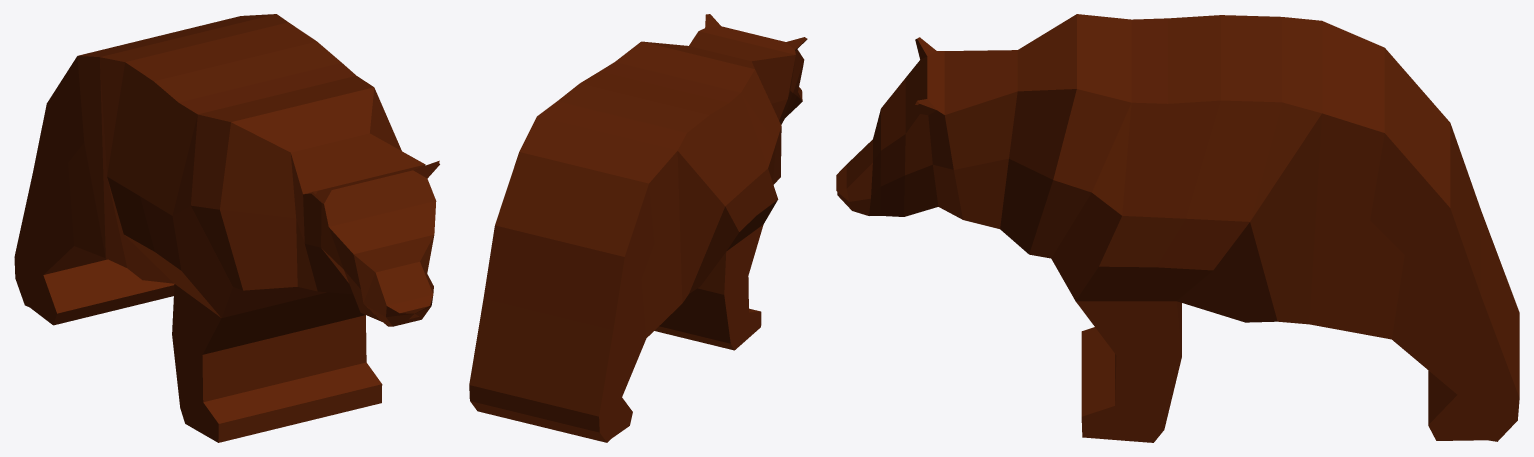
Rendered from bear.glb.
3 views of the same model, side by side, from view 1: azimuth 30°, elevation 25°; view 2: azimuth 150°, elevation 25°; view 3: azimuth 270°, elevation 25° (orthographic). The views are drawn at different scales.
Parts seen in each view (by area): view 1: Plane.001; view 2: Plane.001; view 3: Plane.001.
Boxes of the visible parts, bbox=[...] form: Plane.001: bbox=[14, 14, 439, 442]; Plane.001: bbox=[469, 14, 807, 442]; Plane.001: bbox=[836, 14, 1519, 442].
Size of the model in its own units: 1.71 by 2.31 by 4.1.
